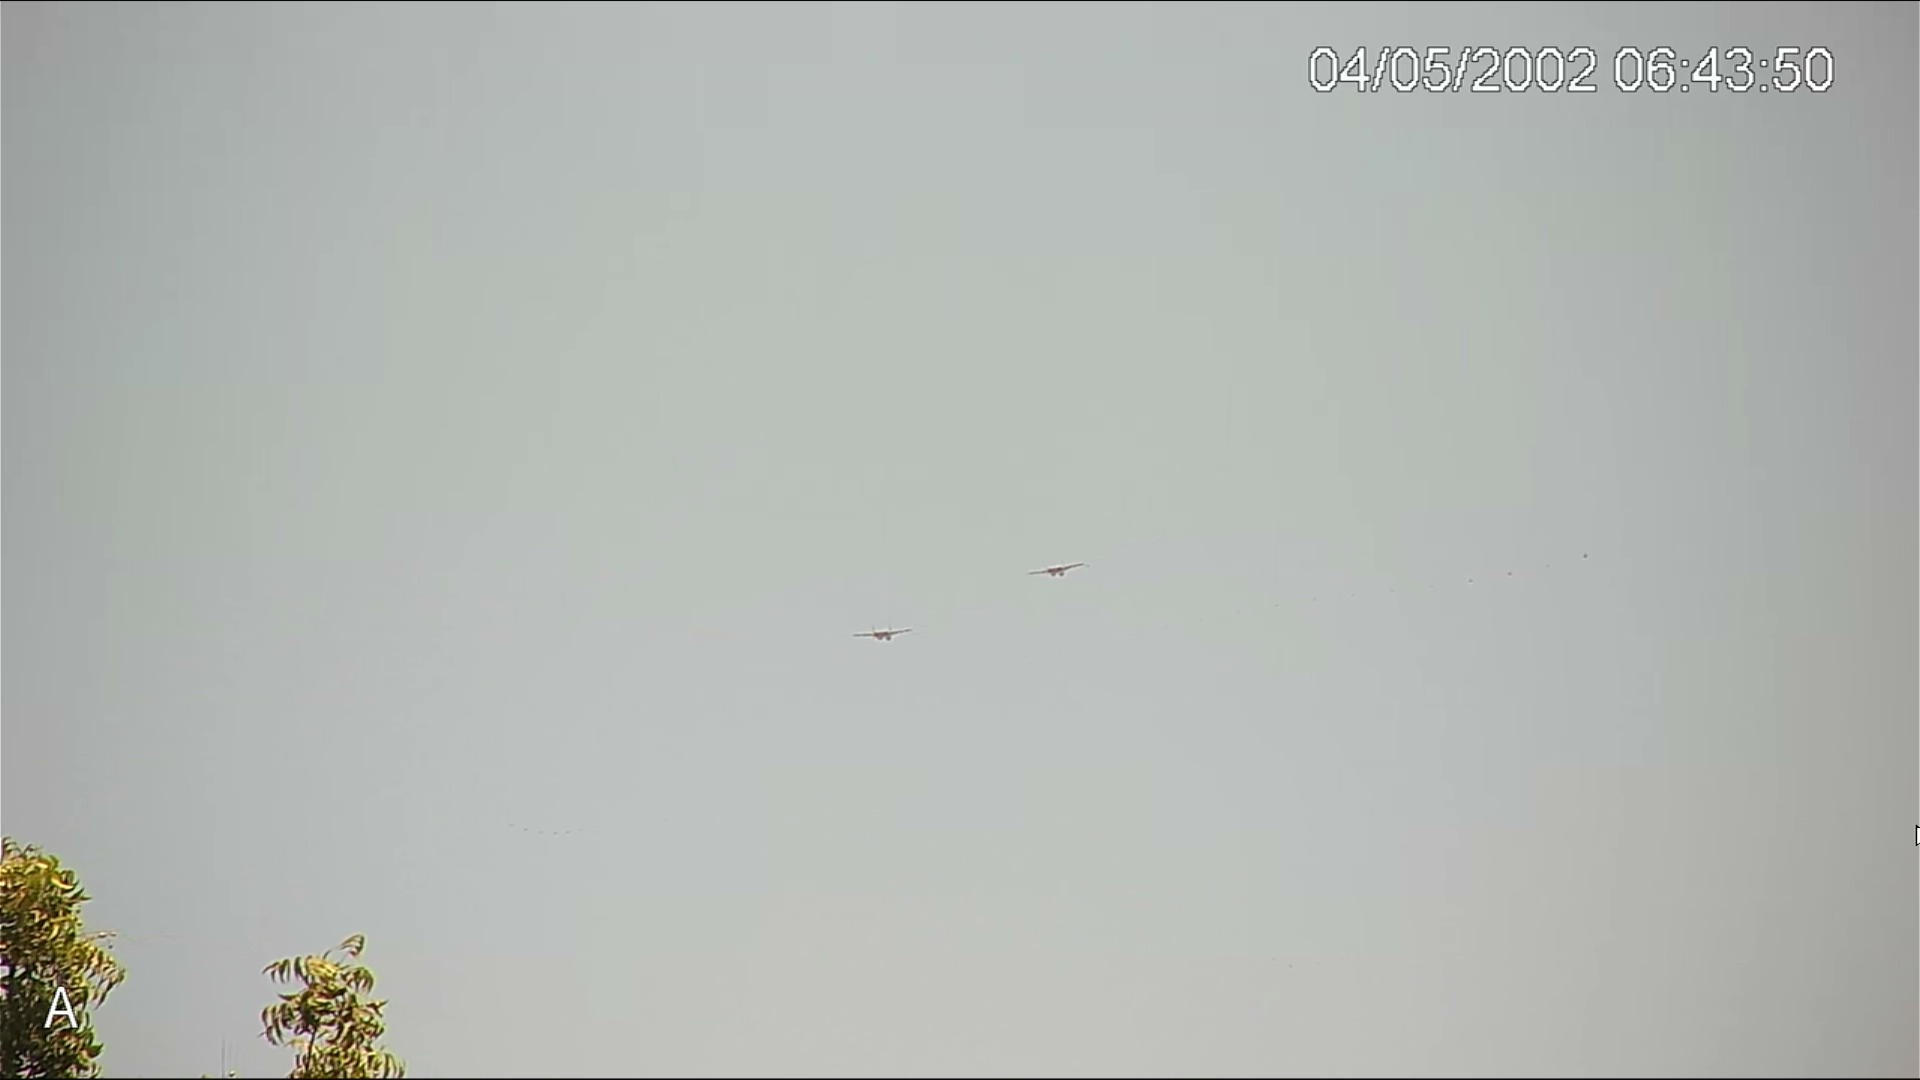SU_30: (849, 622, 916, 647), (1031, 558, 1083, 582)
